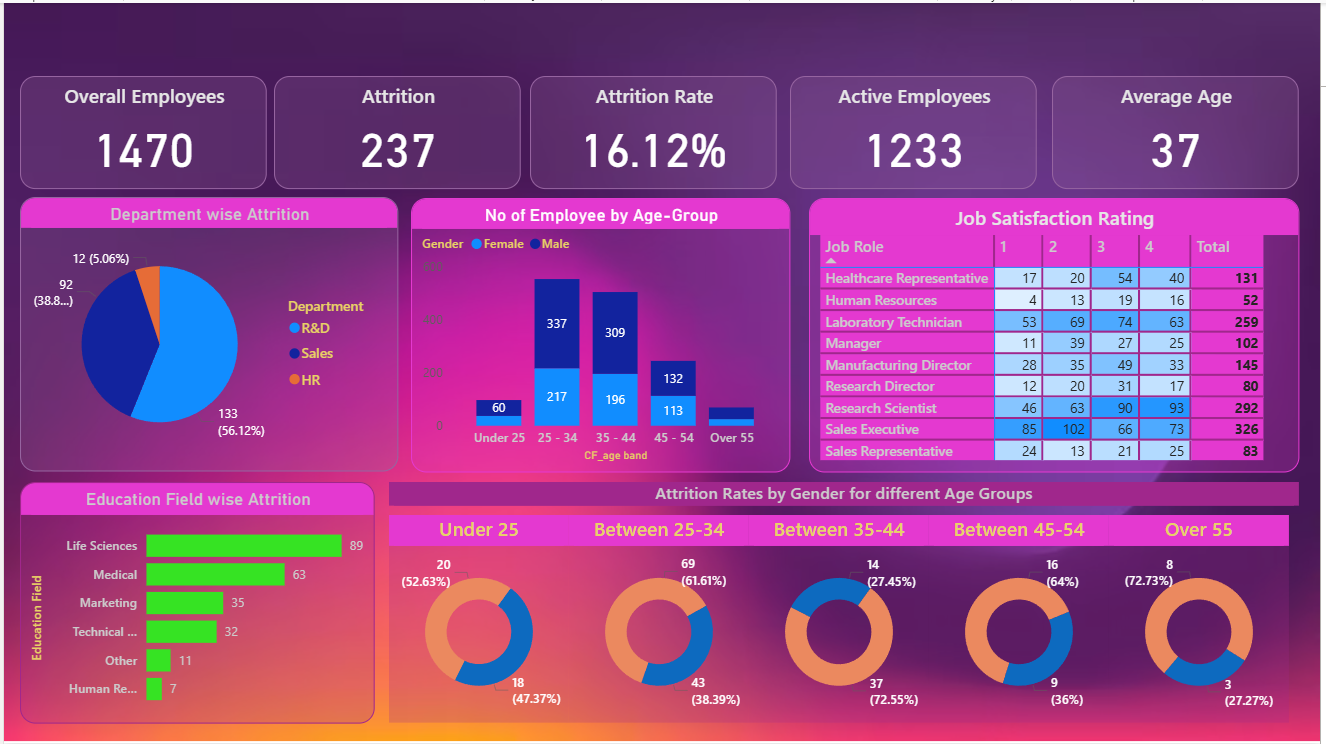

The page's visual inventory and layout, read from the dashboard file:
{"tool":"powerbi","page":{"name":"Page 1","canvas":[1280,720],"ordinal":0},"visuals":[{"type":"card","title":"Overall Employees","fields":{"Values":["Sum(Table_1.Employee Count)"]},"box":[15.6,71,240.2,109.9],"z":0},{"type":"card","title":"Attrition","fields":{"Values":["Sum(Table_1.Attrition Count)"]},"box":[262.6,71,240.2,109.9],"z":1000},{"type":"card","title":"Attrition Rate","fields":{"Values":["Table_1.Attrition Rate"]},"box":[511.6,71,240.2,109.9],"z":2000},{"type":"card","title":"Active Employees","fields":{"Values":["Table_1.Active Employees"]},"box":[764.5,71,240.2,109.9],"z":3000},{"type":"card","title":"Average Age","fields":{"Values":["Avg(Table_1.Age)"]},"box":[1019.3,71,240.2,109.9],"z":4000},{"type":"pieChart","title":"Department wise Attrition","fields":{"Category":["Table_1.Department"],"Y":["Sum(Table_1.Attrition Count)"]},"box":[15.6,188.7,367.7,267.5],"z":5000},{"type":"columnChart","title":"No of Employee by Age-Group","fields":{"Category":["Table_1.CF_age band"],"Y":["Sum(Table_1.Employee Count)"],"Series":["Table_1.Gender"]},"box":[395.9,189.7,368.6,266.5],"z":6000},{"type":"pivotTable","title":"Job Satisfaction Rating","fields":{"Rows":["Table_1.Job Role"],"Columns":["Table_1.Job Satisfaction"],"Values":["Sum(Table_1.Employee Count)"]},"box":[783,189.7,476.6,266.5],"z":7000},{"type":"barChart","title":"Education Field wise Attrition","fields":{"Category":["Table_1.Education Field"],"Y":["Sum(Table_1.Attrition Count)"]},"box":[16,466,345,235],"z":8000},{"type":"donutChart","title":"Under 25","fields":{"Category":["Table_1.Gender"],"Series":["Table_1.CF_age band"],"Y":["Sum(Table_1.Attrition Count)"]},"box":[374.7,498.2,175,202.2],"z":9000},{"type":"textbox","title":"Attrition Rates by Gender for different Age Groups","box":[374.5,465.9,885.1,23.3],"z":10000},{"type":"donutChart","title":"Between 25-34","fields":{"Category":["Table_1.Gender"],"Series":["Table_1.CF_age band"],"Y":["Sum(Table_1.Attrition Count)"]},"box":[549.5,498,175.1,202.3],"z":11000},{"type":"donutChart","title":"Between 35-44","fields":{"Category":["Table_1.Gender"],"Series":["Table_1.CF_age band"],"Y":["Sum(Table_1.Attrition Count)"]},"box":[724.6,498,175.1,202.3],"z":12000},{"type":"donutChart","title":"Between 45-54","fields":{"Category":["Table_1.Gender"],"Series":["Table_1.CF_age band"],"Y":["Sum(Table_1.Attrition Count)"]},"box":[899.7,498,175.1,202.3],"z":13000},{"type":"donutChart","title":"Over 55","fields":{"Category":["Table_1.Gender"],"Series":["Table_1.CF_age band"],"Y":["Sum(Table_1.Attrition Count)"]},"box":[1074.8,498,175.1,202.3],"z":14000}]}

Visuals, with their boxes in screenshot pixels (x1, y1, x2, y2), scaled from the page's 1280x720 canvas onto the 1326x744 screenshot:
"Overall Employees" card: box(16, 73, 265, 187)
"Attrition" card: box(272, 73, 521, 187)
"Attrition Rate" card: box(530, 73, 779, 187)
"Active Employees" card: box(792, 73, 1041, 187)
"Average Age" card: box(1056, 73, 1305, 187)
"Department wise Attrition" pieChart: box(16, 195, 397, 471)
"No of Employee by Age-Group" columnChart: box(410, 196, 792, 471)
"Job Satisfaction Rating" pivotTable: box(811, 196, 1305, 471)
"Education Field wise Attrition" barChart: box(17, 482, 374, 724)
"Under 25" donutChart: box(388, 515, 569, 724)
"Attrition Rates by Gender for different Age Groups" textbox: box(388, 481, 1305, 506)
"Between 25-34" donutChart: box(569, 515, 751, 724)
"Between 35-44" donutChart: box(751, 515, 932, 724)
"Between 45-54" donutChart: box(932, 515, 1113, 724)
"Over 55" donutChart: box(1113, 515, 1295, 724)
